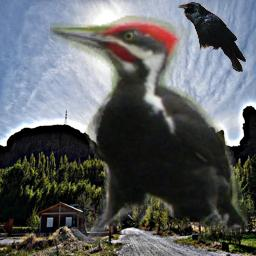Crow: (177, 2, 246, 72)
Woodpecker: (50, 7, 249, 244)
